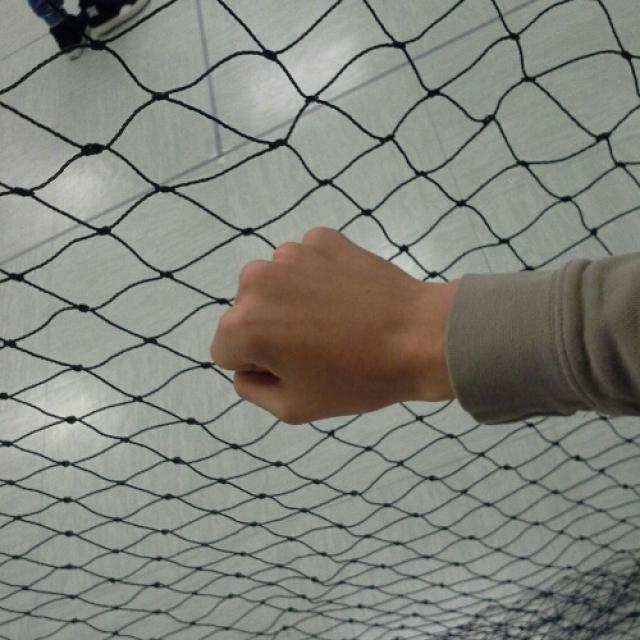rock: (204, 222, 418, 423)
